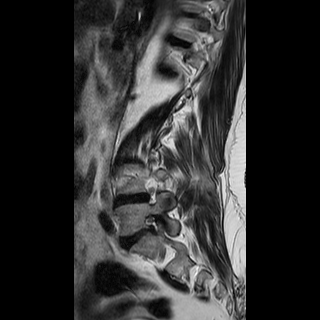RFS1: (139, 210, 163, 241)
